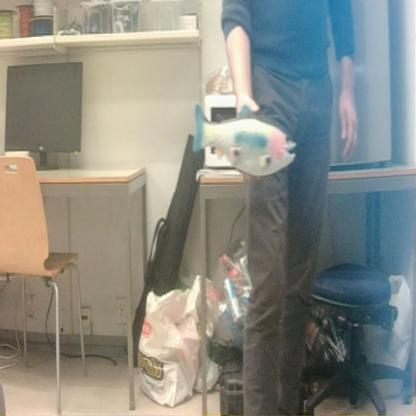rubberfish: (190, 96, 299, 181)
